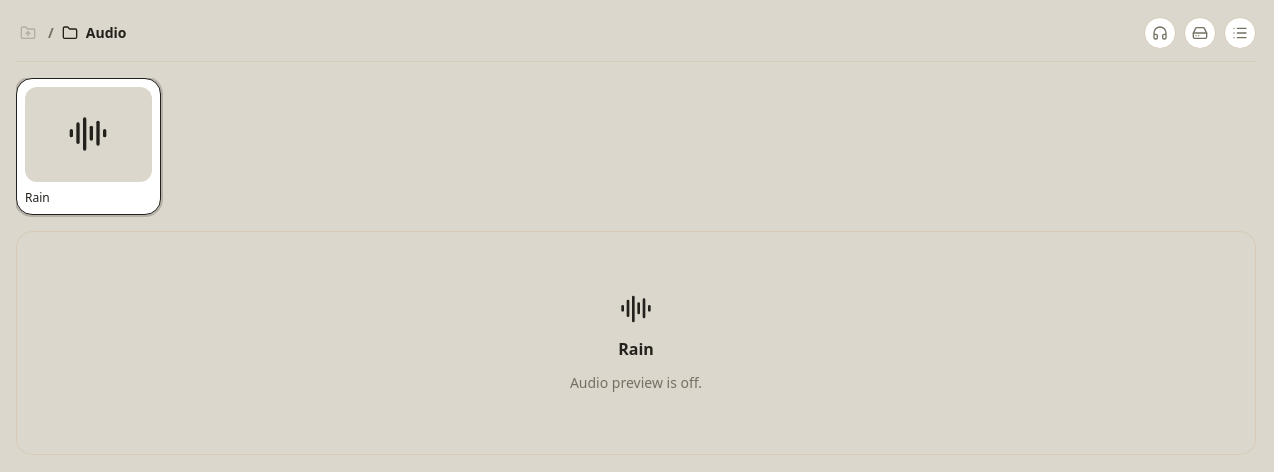
Test case: AssetLibraryContents view modes › enables audio preview only from the independent headphones toggle
Click the button named "Switch library contents to list view". click: (1240, 33)
box: [1224,17,1256,49]
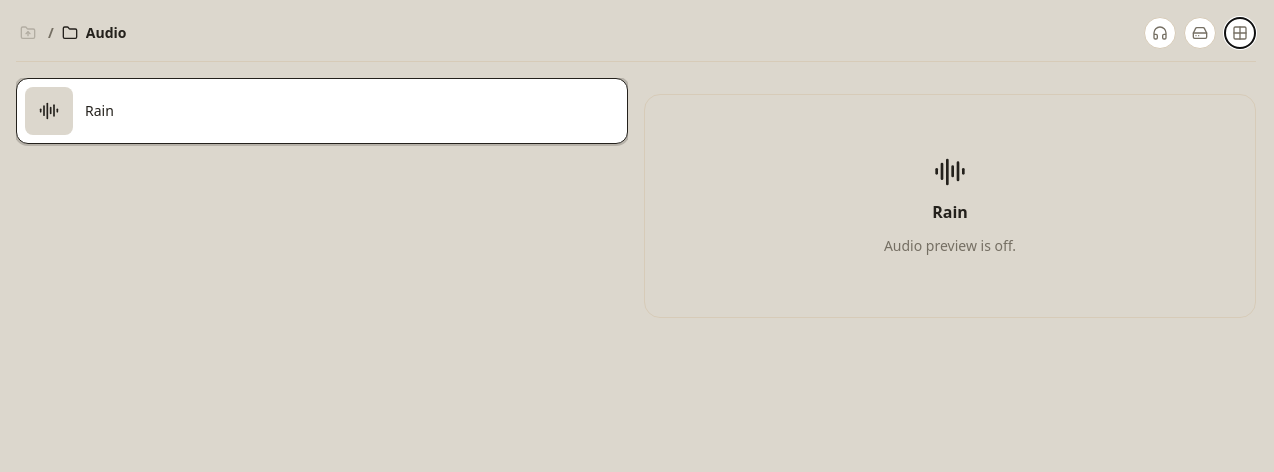
expect the icon with class "lucide-headphones" is shown: met, box [1152,25,1168,41]
expect the text "Audio preview is off." is shown: met, box [884,236,1016,255]
Click the button named "Preview audio". click: (1160, 33)
box: [1144,17,1176,49]
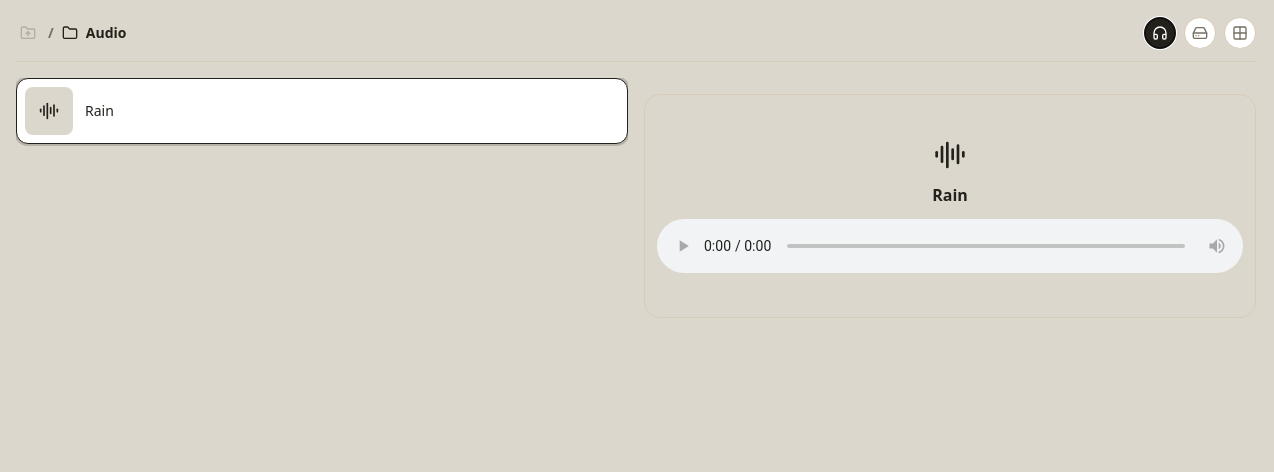
expect the element named "Preview Rain" is shown: met, box [657,219,1243,273]
